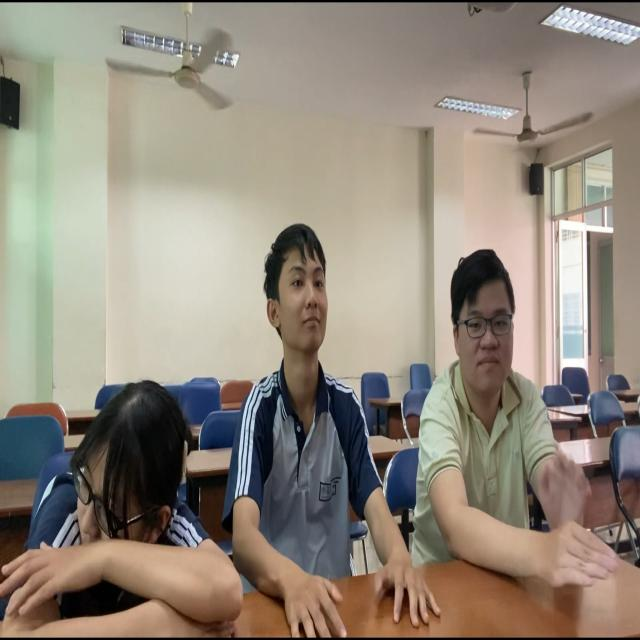sleep: (1, 386, 250, 640)
